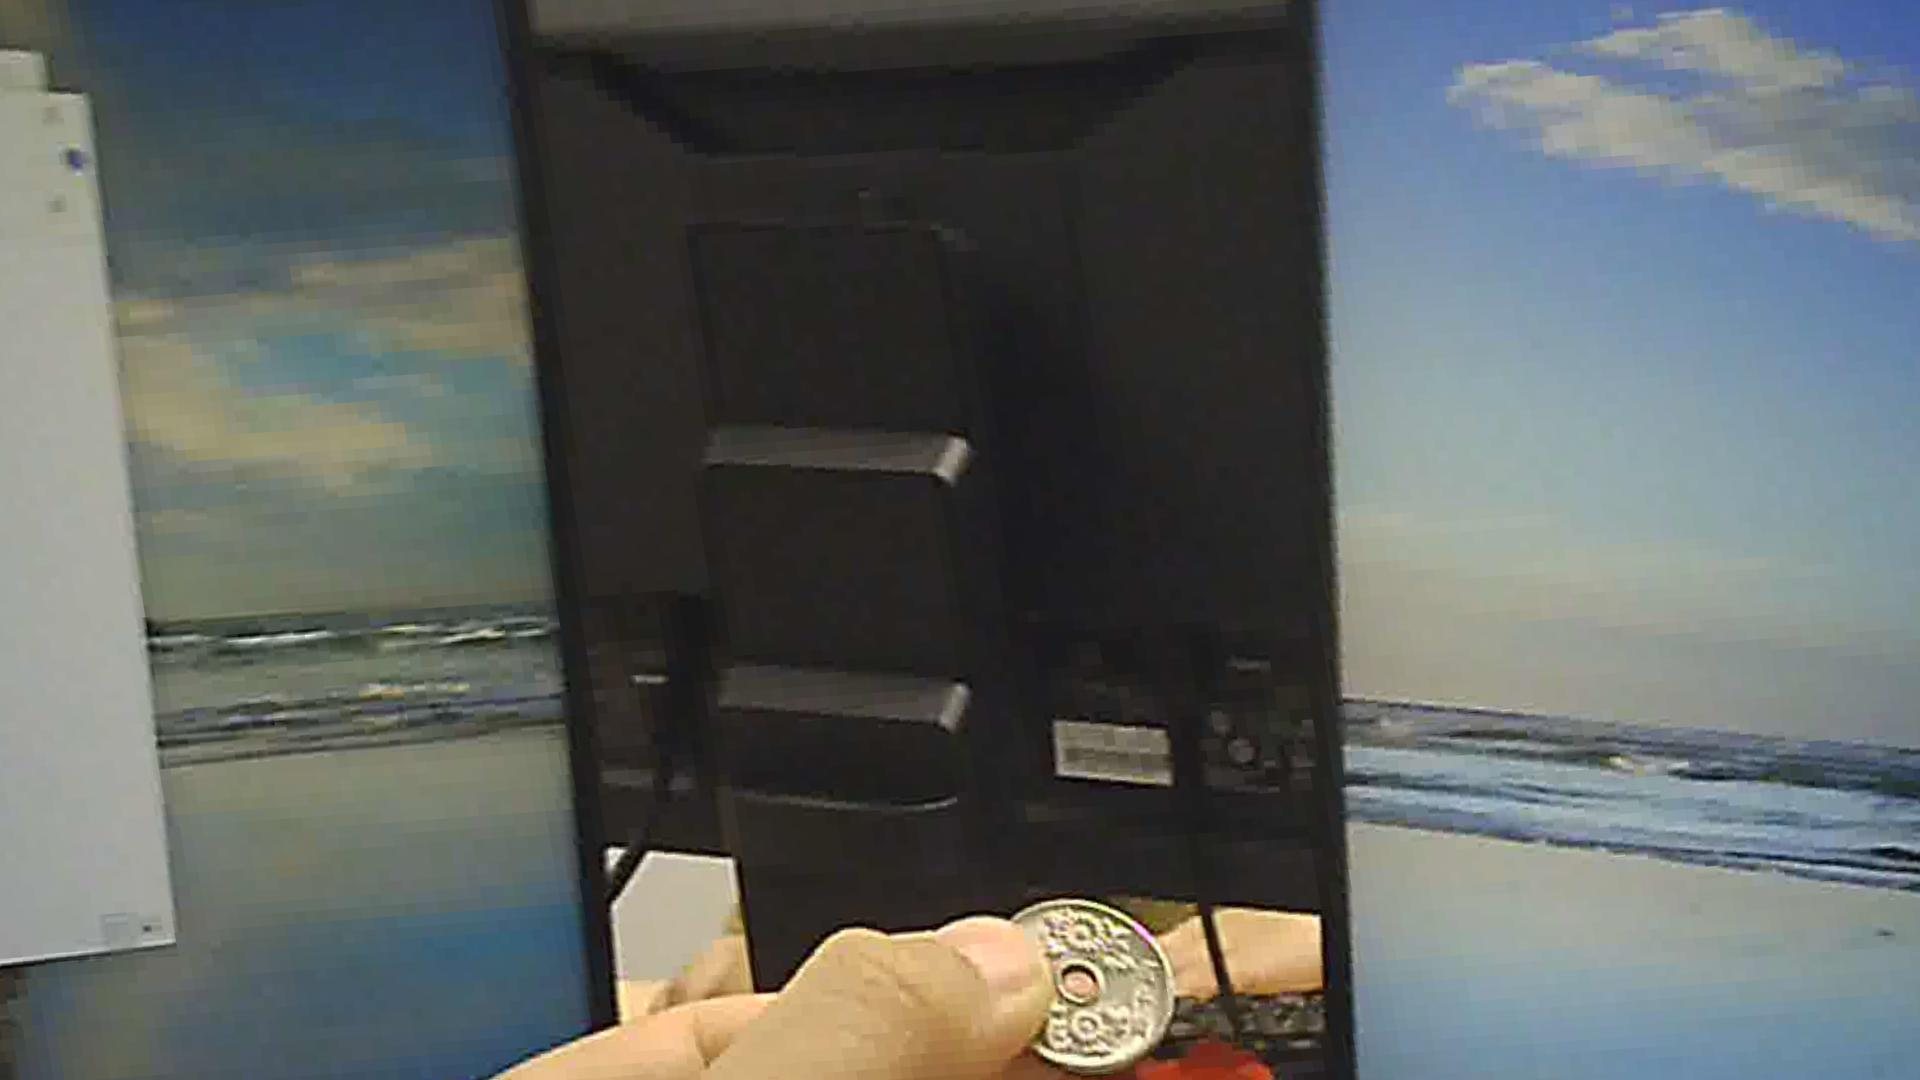50 Yen: (975, 886, 1184, 1073)
